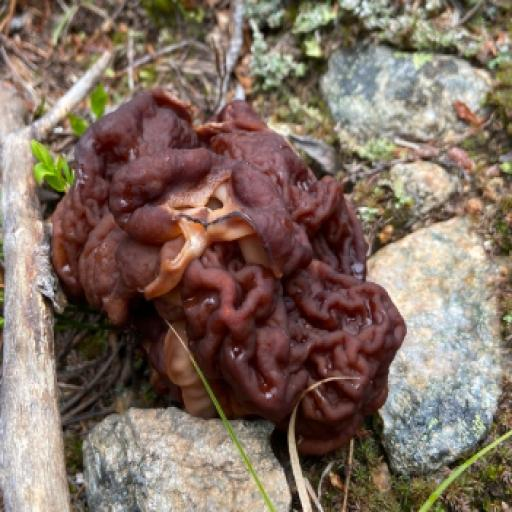False Morel: (18, 44, 452, 491)
